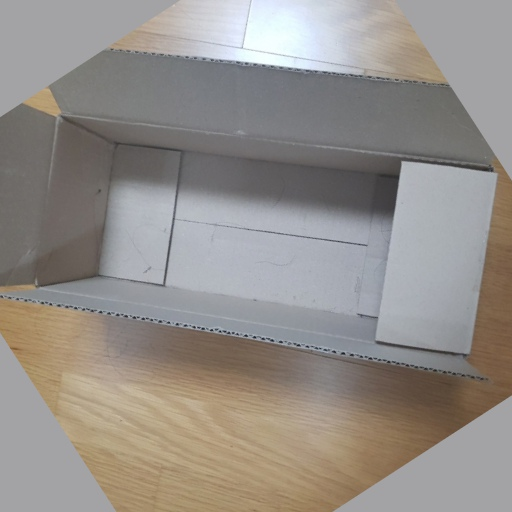Paper_0: (2, 41, 505, 389)
